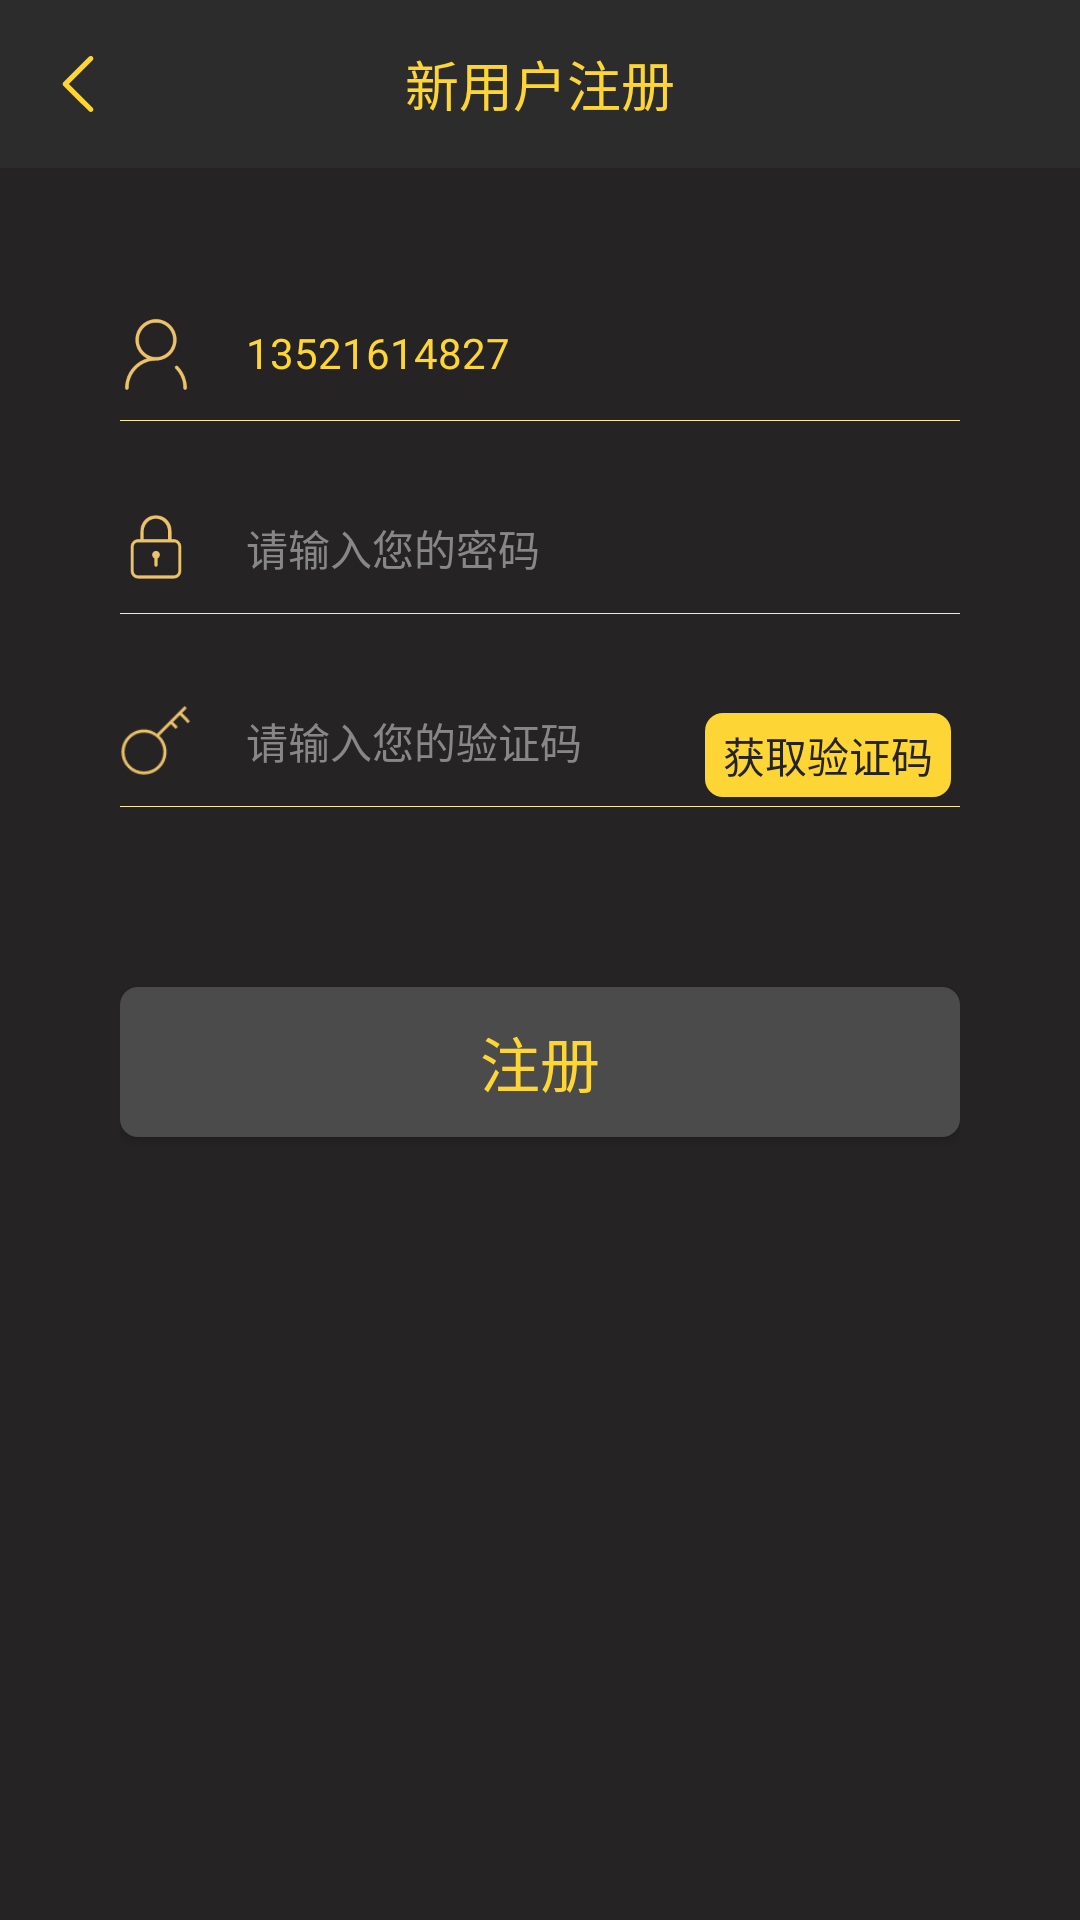

Locate icon controls on the screen. Image size 1080px×1920px, boxes as bbox(x1, y1, x2, y2).
socket icom back: bbox(62, 56, 94, 112)
socket icom key: bbox(121, 706, 190, 775)
socket icom password: bbox(130, 515, 182, 579)
socket icom username: bbox(125, 319, 187, 390)
